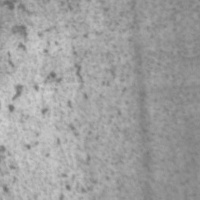pitted_surface: (0, 0, 177, 199)
